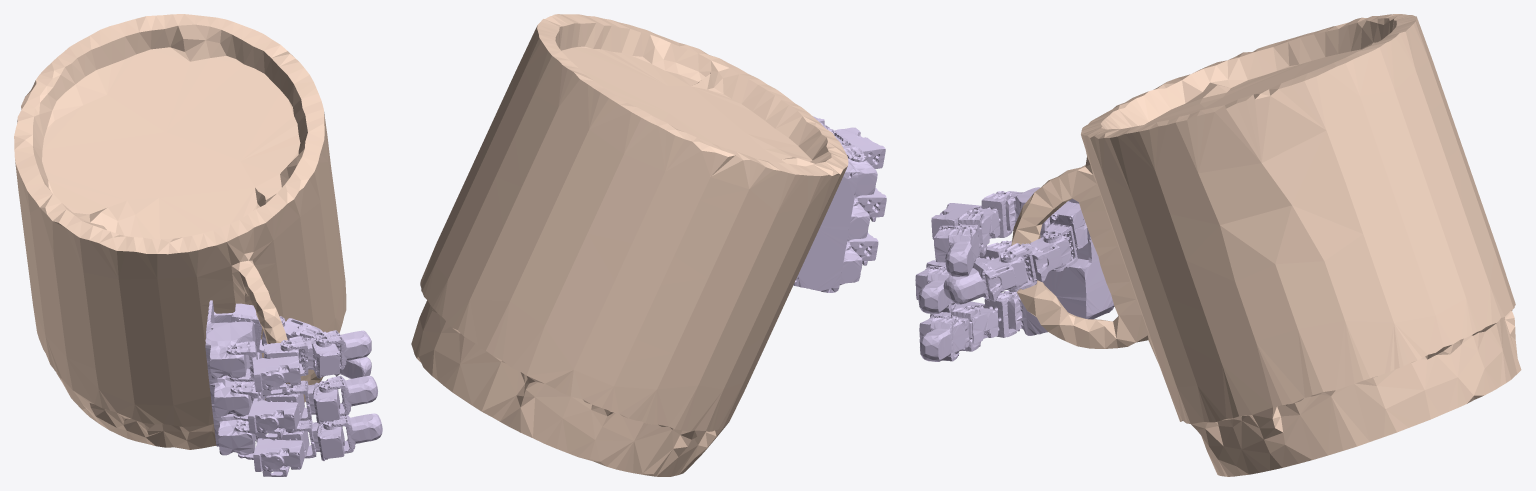
Rendered from cffe311aa49e9c-final.glb.
3 renders of one model, left to right at view 1: azimuth 30°, elevation 25°; view 2: azimuth 150°, elevation 25°; view 3: azimuth 270°, elevation 25°, orthographic. The views are drawn at different scales.
Visible parts, largest first — view 1: world, LEAP_hand; view 2: world, LEAP_hand; view 3: world, LEAP_hand.
Part boxes in pixels (left/top/right/bottom): world: left=14, top=14, right=346, bottom=449; LEAP_hand: left=205, top=300, right=382, bottom=476; world: left=411, top=14, right=848, bottom=476; LEAP_hand: left=793, top=116, right=886, bottom=292; world: left=1011, top=14, right=1521, bottom=476; LEAP_hand: left=915, top=187, right=1114, bottom=361.
Bounding box in the file's own units: 0.3723 × 0.4151 × 0.5272.
